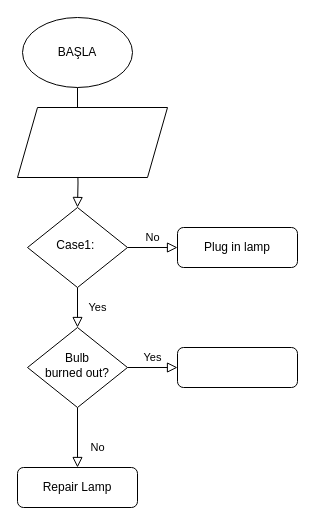
This 315x525 diagram has some shape labels left out. Here are the shapes that lost their labels. From the top down, the centre of each, then its label:
(x=92, y=142): isim soy isim girişi, işlem numarası seçme (ad,soyad,giris)
(x=237, y=367): Replace Bulb
